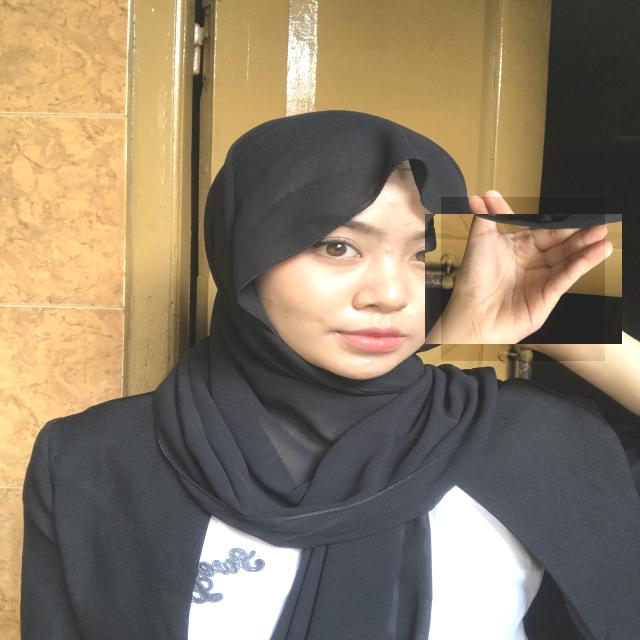mendengar: (441, 197, 605, 361)
